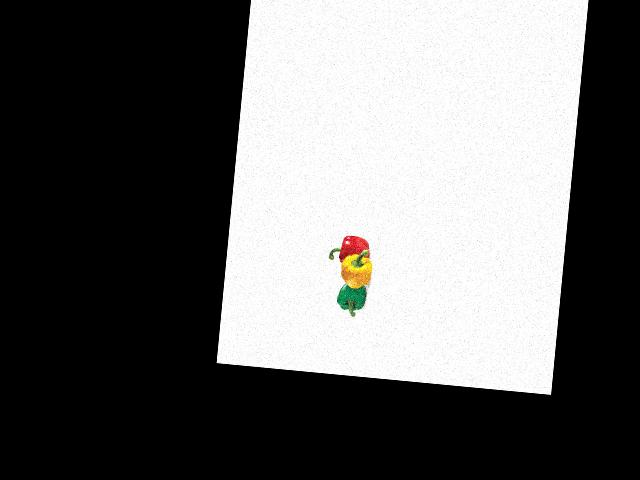bell_pepper: (333, 278, 370, 317)
